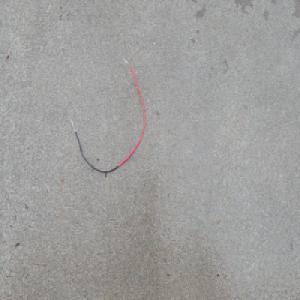Wire: (70, 56, 147, 175)
